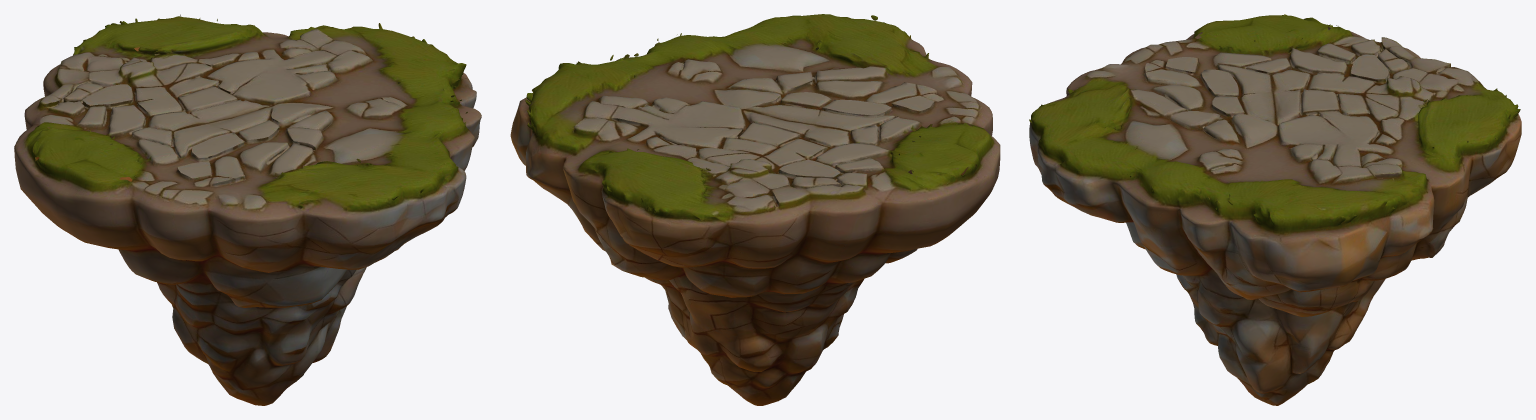
Rendered from island_base.glb.
The picture shows the model from 3 angles, left to right: view 1: azimuth 30°, elevation 25°; view 2: azimuth 150°, elevation 25°; view 3: azimuth 270°, elevation 25°; orthographic projection. The views are drawn at different scales.
Visible parts, largest first — view 1: tripo_node_0b3bd688-d536-4579-8f2b-0c340146bdb9; view 2: tripo_node_0b3bd688-d536-4579-8f2b-0c340146bdb9; view 3: tripo_node_0b3bd688-d536-4579-8f2b-0c340146bdb9.
Part boxes in pixels (x1,y1,x2,y2): tripo_node_0b3bd688-d536-4579-8f2b-0c340146bdb9: [14, 14, 481, 405]; tripo_node_0b3bd688-d536-4579-8f2b-0c340146bdb9: [510, 14, 1000, 405]; tripo_node_0b3bd688-d536-4579-8f2b-0c340146bdb9: [1029, 14, 1521, 405].
Bounding box in the file's own units: 2.59 × 1.69 × 2.56.
Materials: 1 (1 with a texture image).
